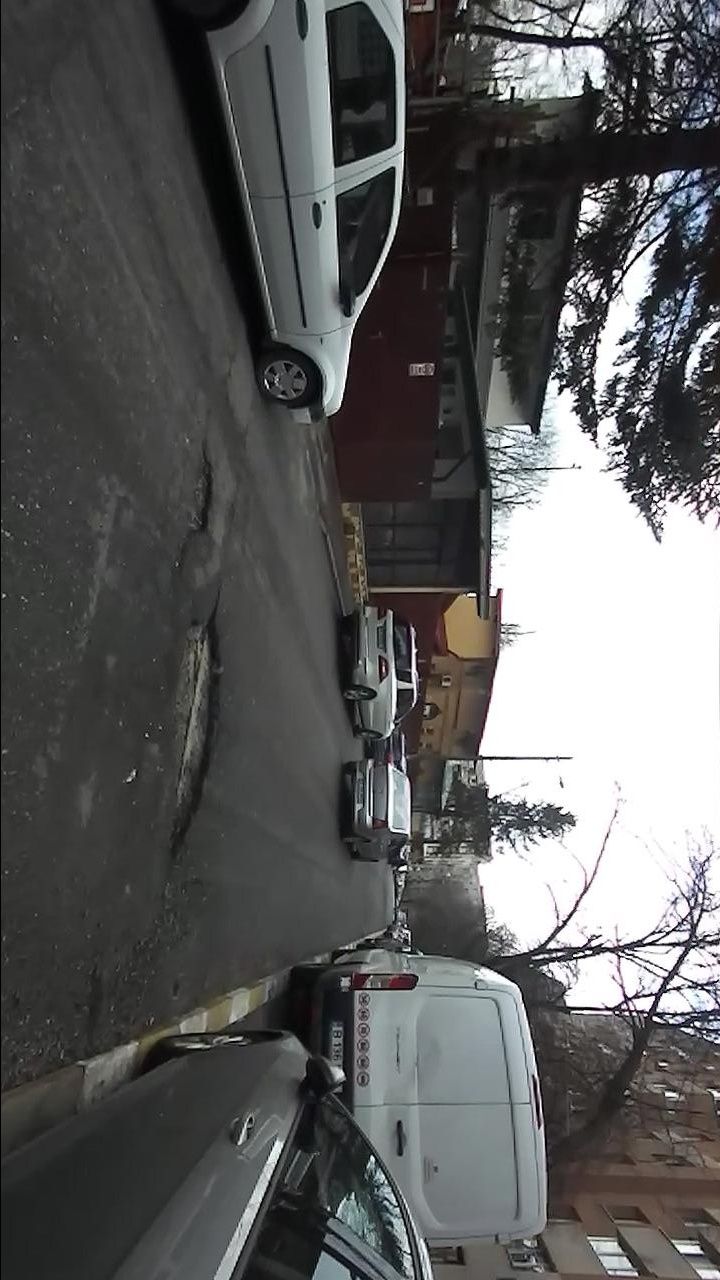pothole: (159, 585, 227, 866), (171, 440, 218, 572)
